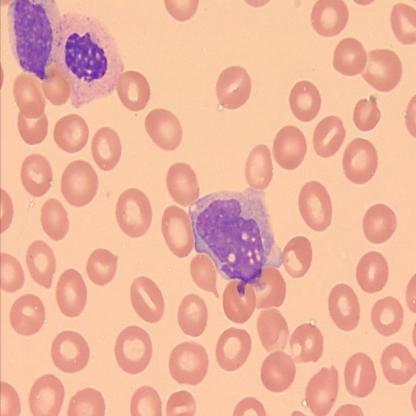Monocyte: (187, 186, 286, 299)
